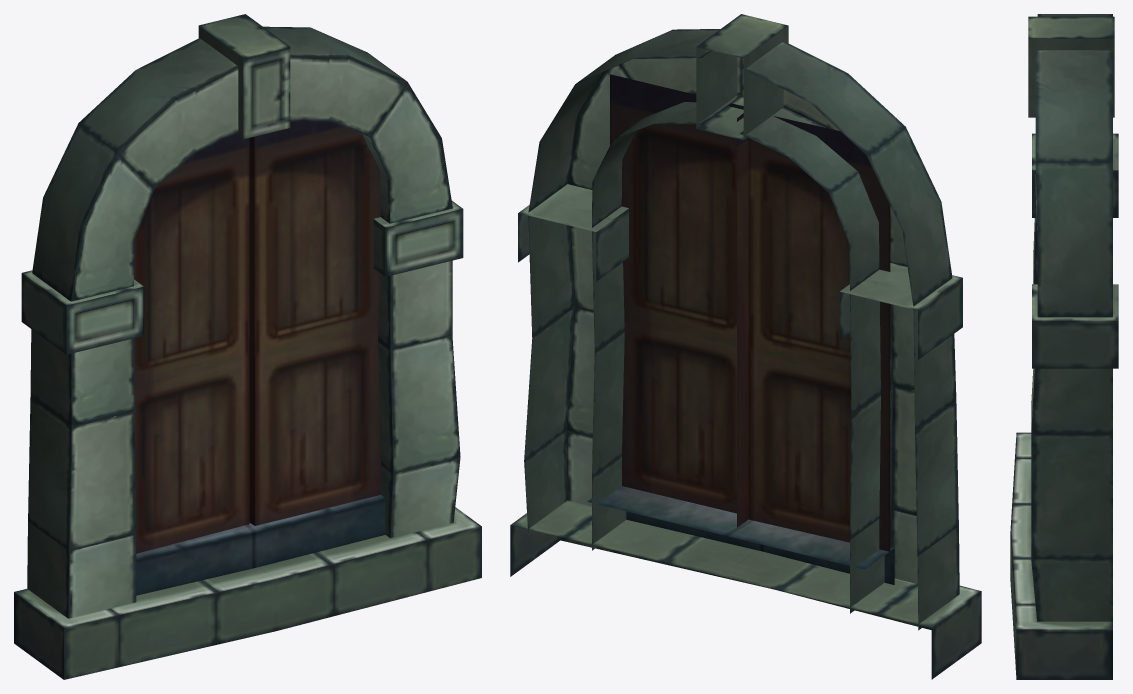
The model's file is 2_YiZhan_Chuang_01.FBX.
The picture shows the model from 3 angles, left to right: view 1: azimuth 30°, elevation 25°; view 2: azimuth 150°, elevation 25°; view 3: azimuth 270°, elevation 25°; orthographic projection. The views are drawn at different scales.
Visible parts, largest first — view 1: 2_YiZhan_Chuang_01; view 2: 2_YiZhan_Chuang_01; view 3: 2_YiZhan_Chuang_01.
Part boxes in pixels (box(x1,y1,x2,y2)): 2_YiZhan_Chuang_01: box(14, 14, 481, 679); 2_YiZhan_Chuang_01: box(510, 14, 981, 679); 2_YiZhan_Chuang_01: box(1010, 14, 1118, 679).
Bounding box in the file's own units: 170 × 222 × 39.23.
